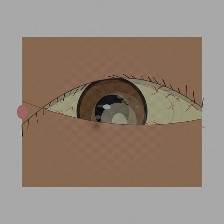corneal_ulcer: (88, 97, 149, 146)
